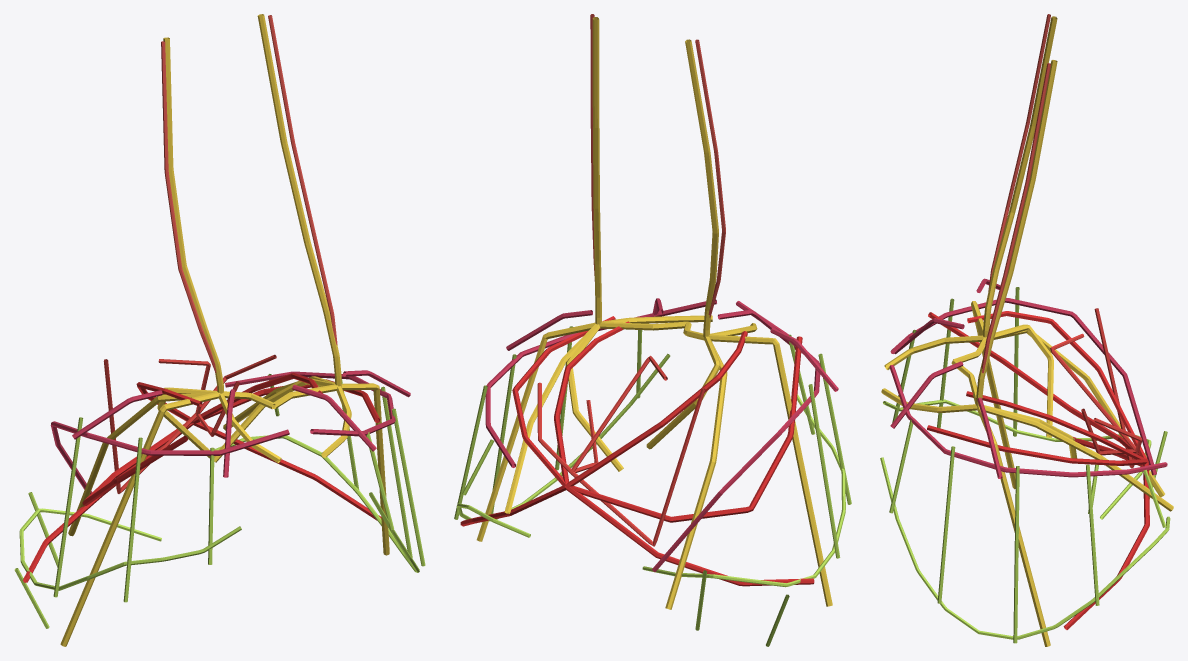
The model's file is anatomyverse-diasupply.glb.
The picture shows the model from 3 angles, left to right: view 1: azimuth 30°, elevation 25°; view 2: azimuth 150°, elevation 25°; view 3: azimuth 270°, elevation 25°; orthographic projection. The views are drawn at different scales.
Parts seen in each view (by area): view 1: phrenic_nerve_dia, lower_intercostal_n, musculophrenic_a, inferior_phrenic_a, pericardiophrenic_a, superior_phrenic_a; view 2: phrenic_nerve_dia, inferior_phrenic_a, lower_intercostal_n, musculophrenic_a, superior_phrenic_a, pericardiophrenic_a; view 3: phrenic_nerve_dia, lower_intercostal_n, inferior_phrenic_a, musculophrenic_a, pericardiophrenic_a, superior_phrenic_a.
Part boxes in pixels (x1,y1,x2,y2): phrenic_nerve_dia: (60,14,389,646); lower_intercostal_n: (14,374,425,628); musculophrenic_a: (50,370,410,494); inferior_phrenic_a: (23,372,381,582); pericardiophrenic_a: (161,15,337,372); superior_phrenic_a: (103,354,276,493); phrenic_nerve_dia: (476,17,832,609); inferior_phrenic_a: (460,316,814,586); lower_intercostal_n: (454,326,851,646); musculophrenic_a: (485,298,838,572); superior_phrenic_a: (537,355,705,546); pericardiophrenic_a: (590,14,725,317); phrenic_nerve_dia: (881,16,1173,646); lower_intercostal_n: (880,287,1170,643); inferior_phrenic_a: (927,311,1149,629); musculophrenic_a: (889,278,1167,478); pericardiophrenic_a: (981,14,1050,373); superior_phrenic_a: (1050,308,1142,468).
Size of the model in its own units: 0.2609 by 0.3995 by 0.1958.
